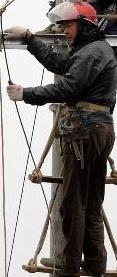boots: (38, 256, 78, 273), (78, 262, 104, 277)
gloves: (0, 25, 43, 46), (4, 84, 37, 106)
hard-hat: (46, 1, 96, 24)
ppe-suit: (19, 26, 117, 275)
